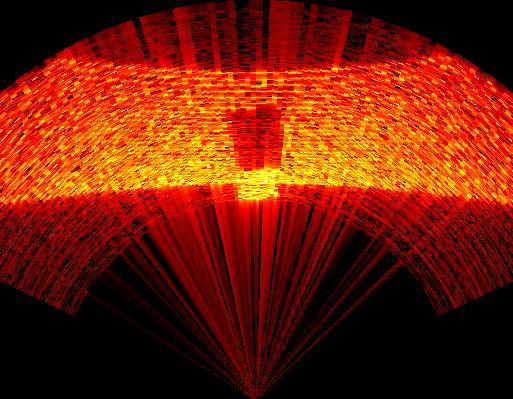box_crate: (222, 103, 290, 203)
